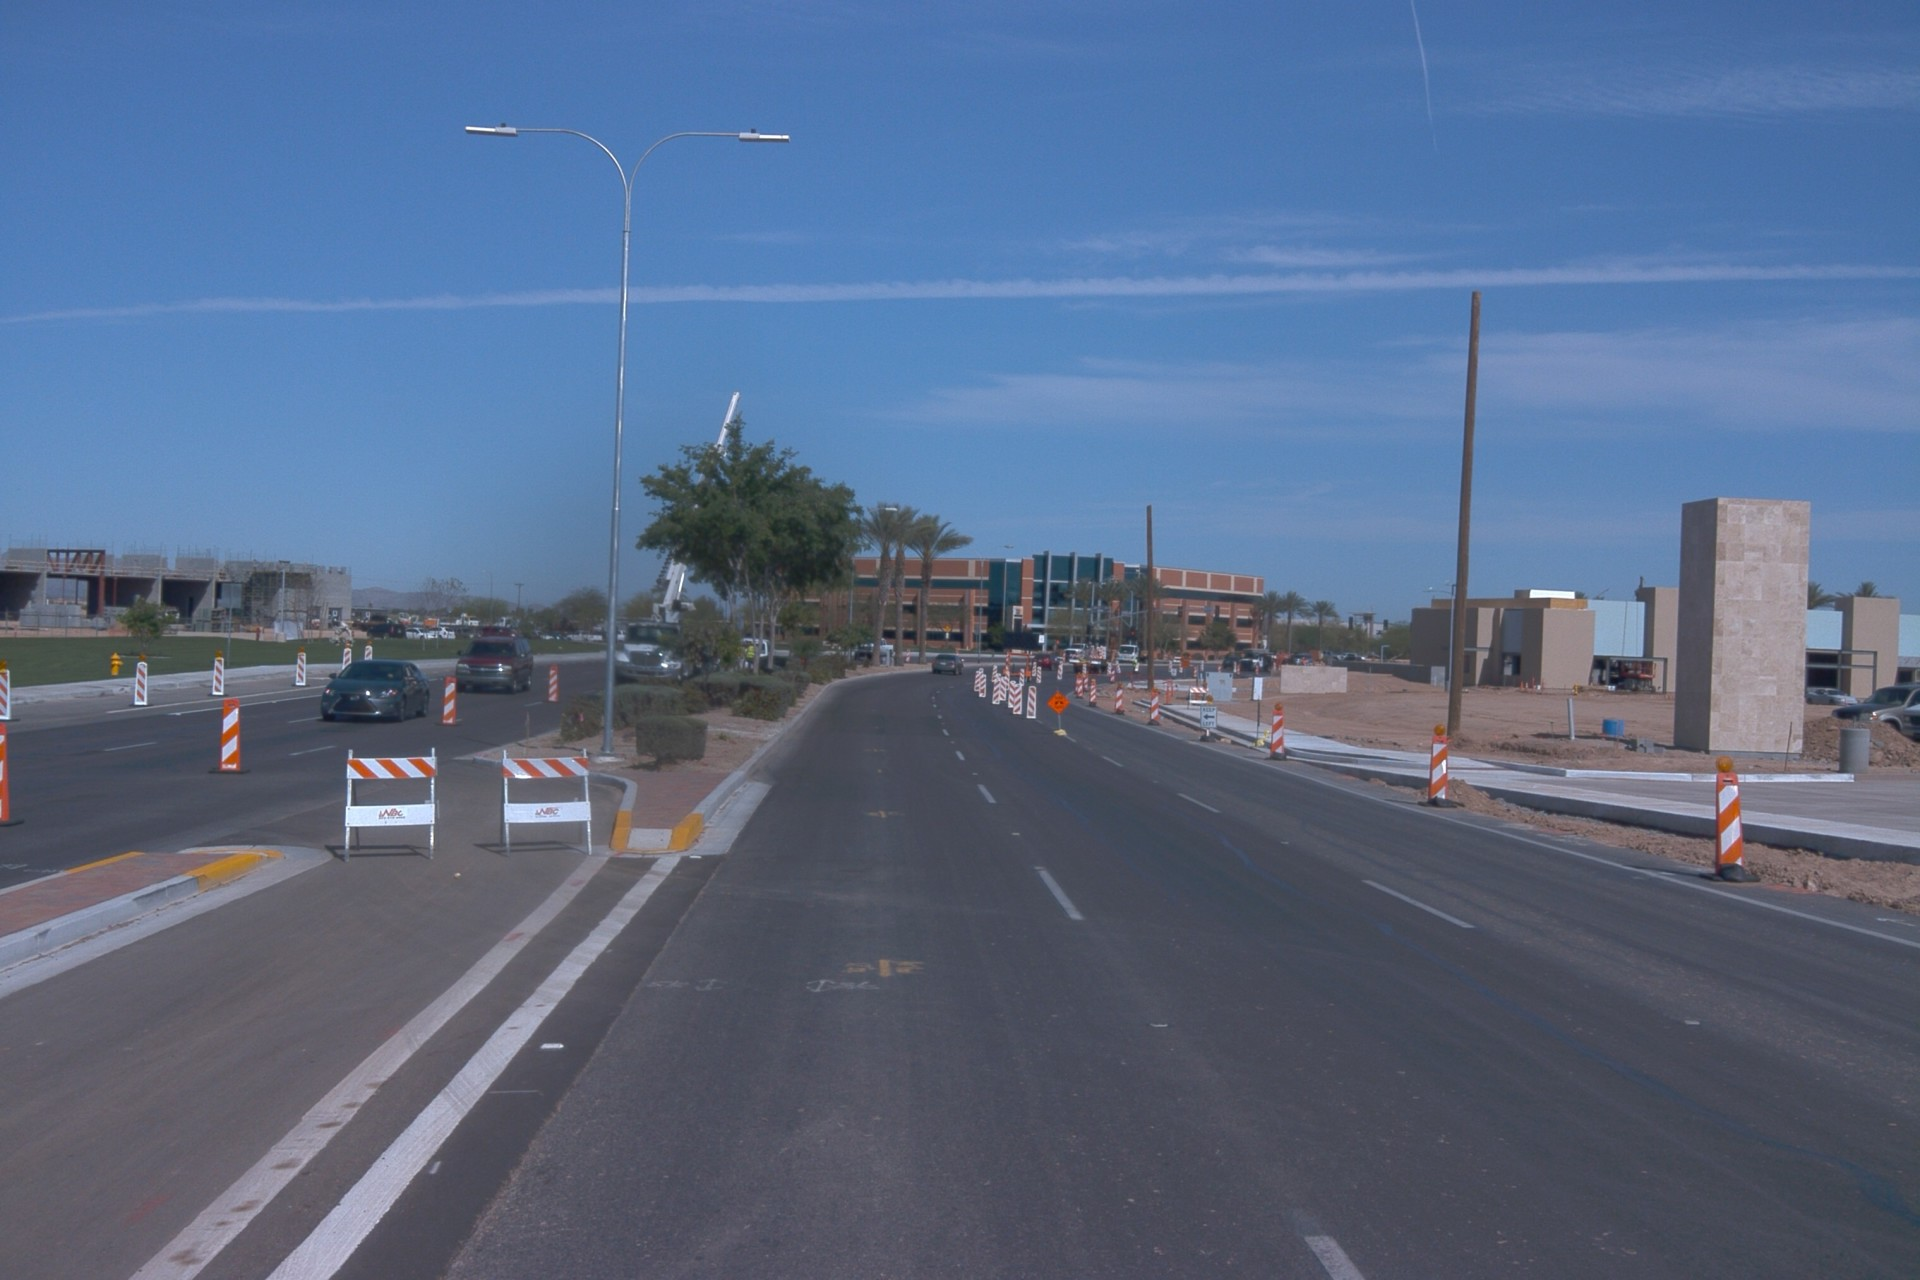TYPE_PEDESTRIAN: (745, 642, 757, 675), (1133, 655, 1140, 670)
TYPE_VEHICLE: (600, 376, 759, 691), (316, 657, 426, 722), (452, 633, 542, 698), (1814, 679, 1919, 724), (1868, 689, 1920, 744), (997, 626, 1041, 681), (1068, 635, 1119, 677), (1237, 648, 1298, 675), (740, 628, 776, 664), (853, 636, 897, 664), (1062, 629, 1099, 658), (478, 621, 523, 640), (563, 627, 607, 646), (366, 621, 410, 640), (930, 654, 964, 678), (1112, 644, 1150, 665), (352, 612, 398, 628), (398, 620, 441, 637), (1030, 653, 1061, 675), (452, 623, 485, 642), (423, 626, 459, 642), (160, 603, 181, 626), (1291, 652, 1317, 666)
